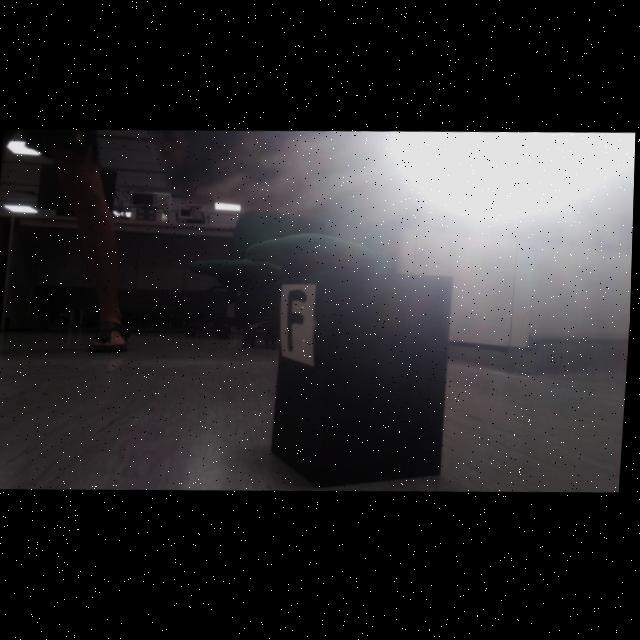F: (289, 291, 309, 353)
